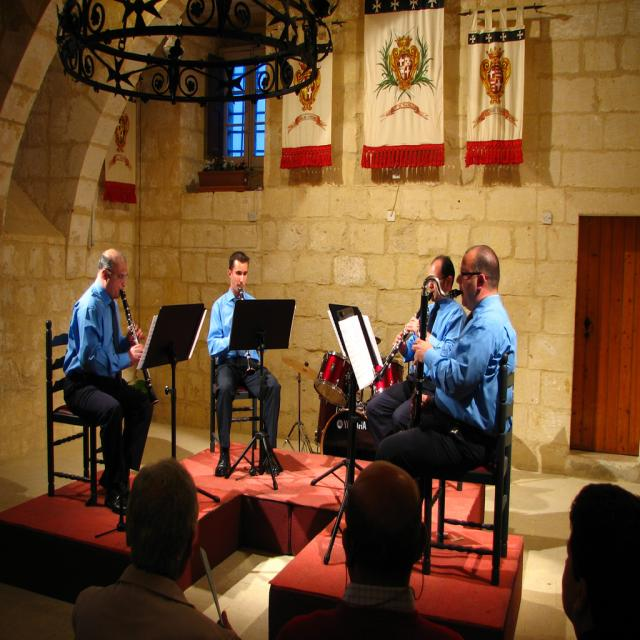clarinet: (408, 280, 463, 441), (374, 289, 437, 382), (119, 287, 161, 406), (236, 286, 258, 375)
